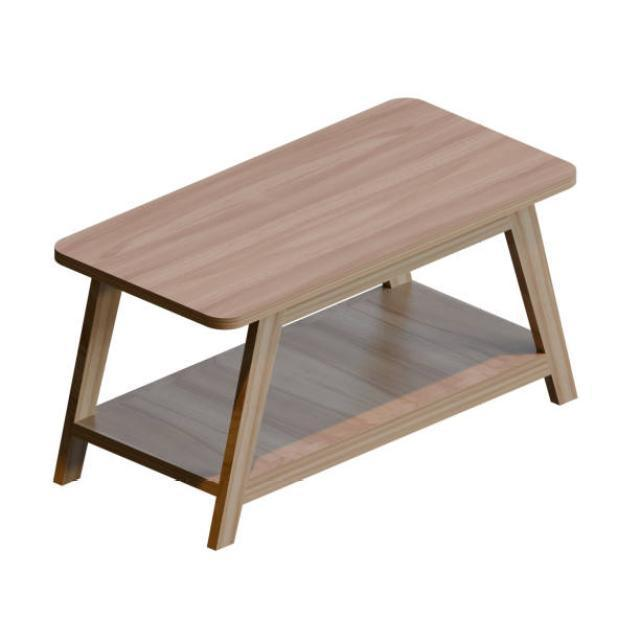table: (51, 95, 578, 550)
